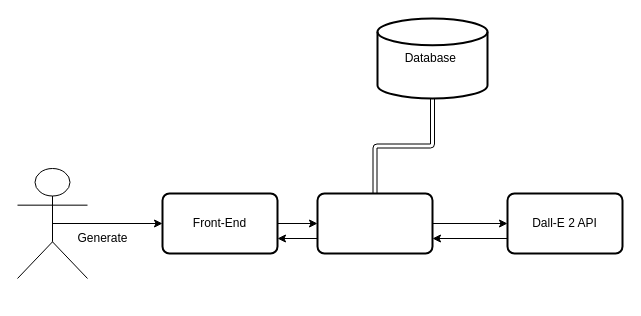
The diagram is 641 pixels wide and 316 high, and some of its shapes have lost their labels. The shapes that lost their labels are listed below. From the top down, each one's centre as x and y in pixels, then its label:
At point 52,223: "User".
At point 374,223: "Back-End".
